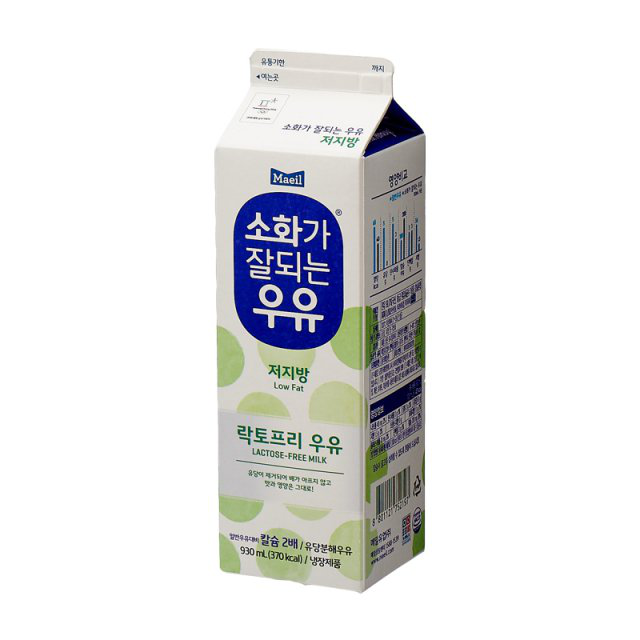milk: (212, 46, 427, 592)
